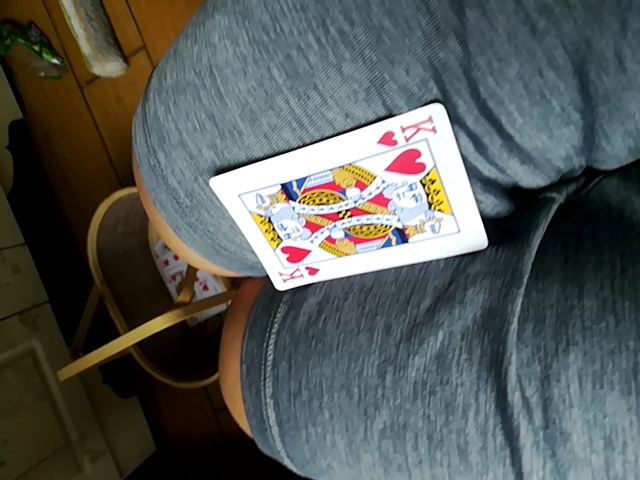hx k: (209, 102, 489, 294)
